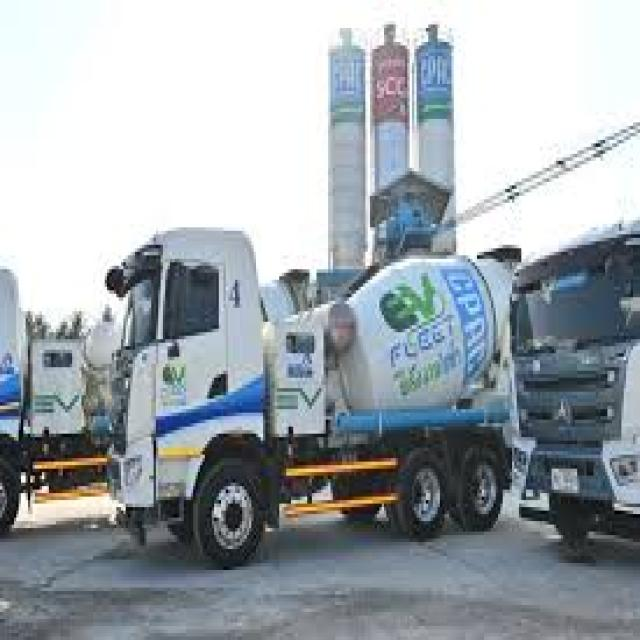cement_mixer_truck: (106, 235, 517, 544), (512, 231, 640, 542), (0, 224, 121, 539)
